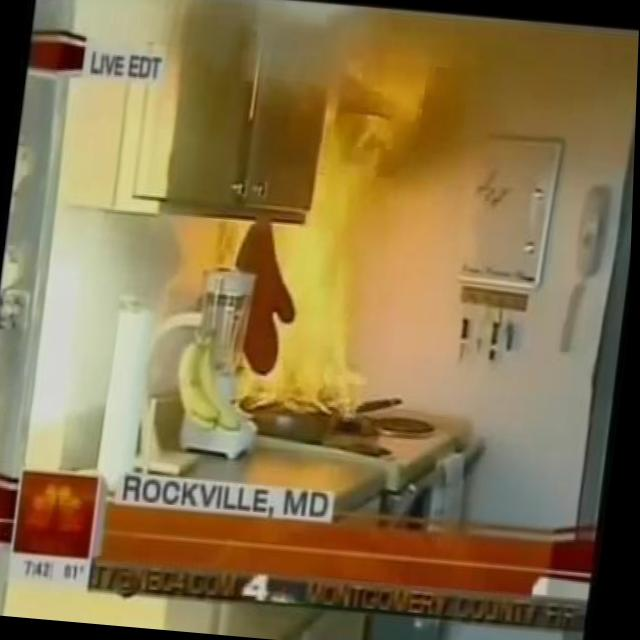fire: (211, 0, 439, 422)
